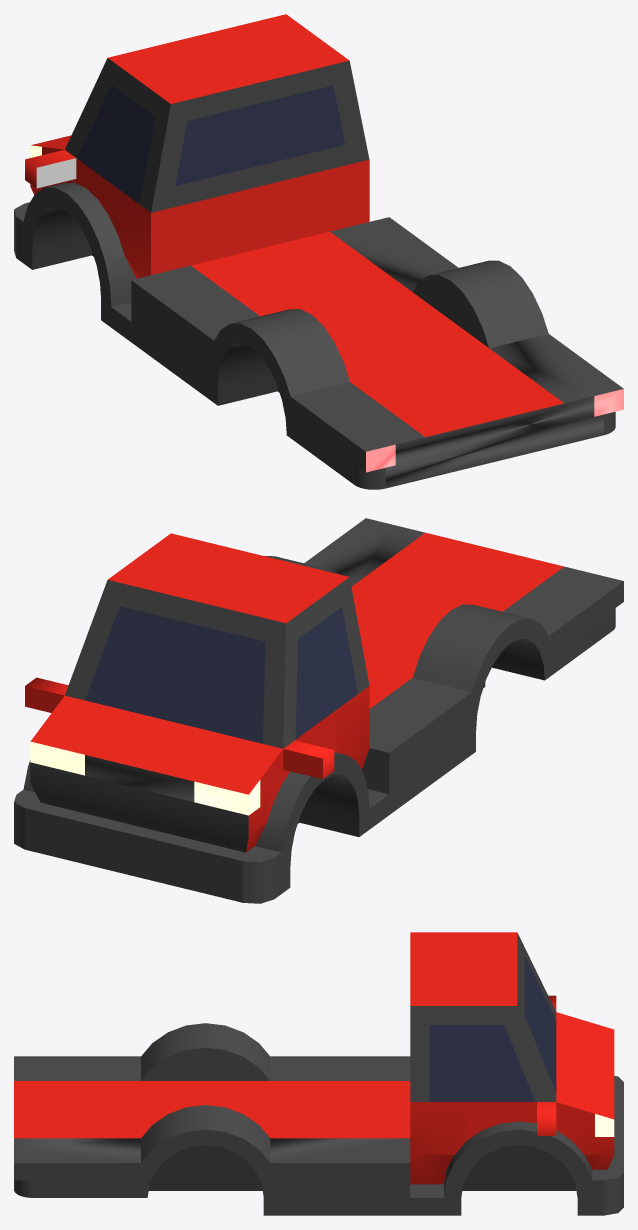
Rendered from SM_Delivery_Flat_Body.fbx.
3 views of the same model, one above another, from view 1: azimuth 30°, elevation 25°; view 2: azimuth 150°, elevation 25°; view 3: azimuth 270°, elevation 25° (orthographic). The views are drawn at different scales.
Visible parts, largest first — view 1: SM_Delivery_Flat_Body; view 2: SM_Delivery_Flat_Body; view 3: SM_Delivery_Flat_Body.
Part boxes in pixels (box(x1,y1,x2,y2)): SM_Delivery_Flat_Body: box(14, 14, 623, 489); SM_Delivery_Flat_Body: box(14, 518, 623, 903); SM_Delivery_Flat_Body: box(14, 932, 623, 1215).
Size of the model in its own units: 1.5 by 1.1 by 3.15.
